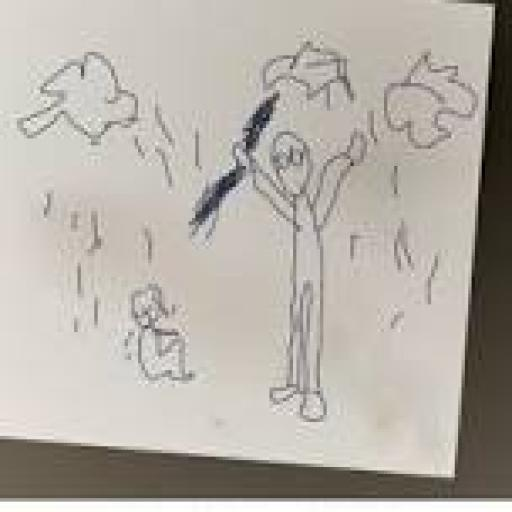person: (190, 98, 390, 434), (114, 274, 216, 412)
